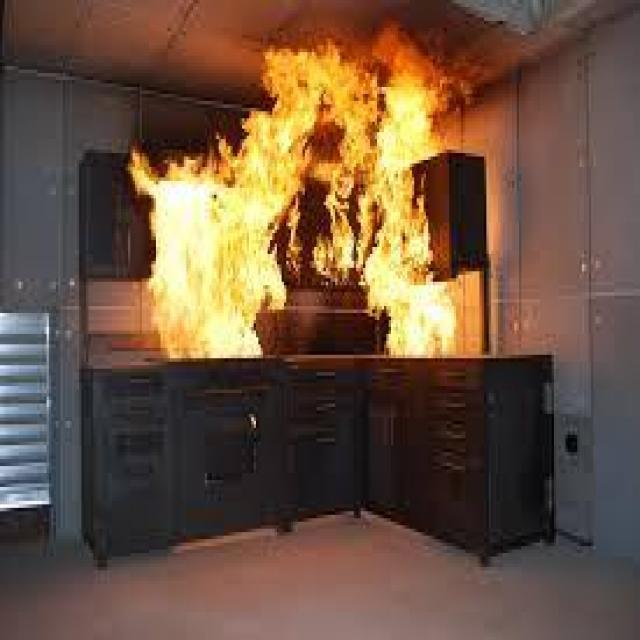fire: (310, 49, 488, 357), (134, 64, 305, 351)
